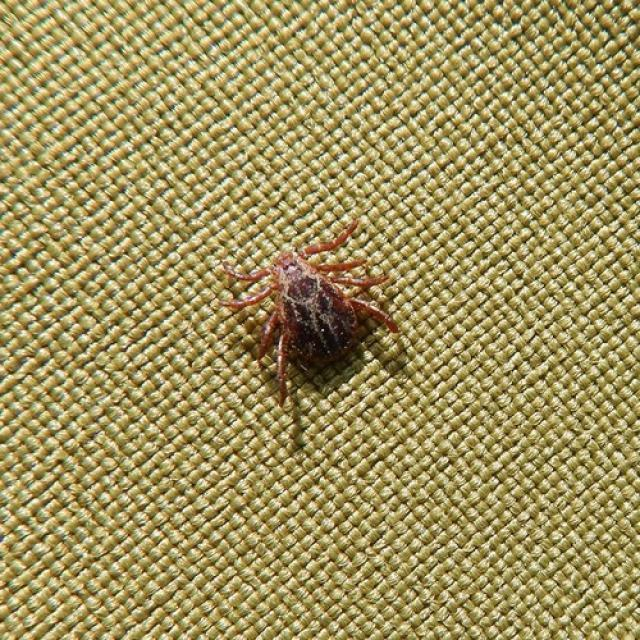Dermacentor Reticulatus-M: (225, 220, 399, 407)
